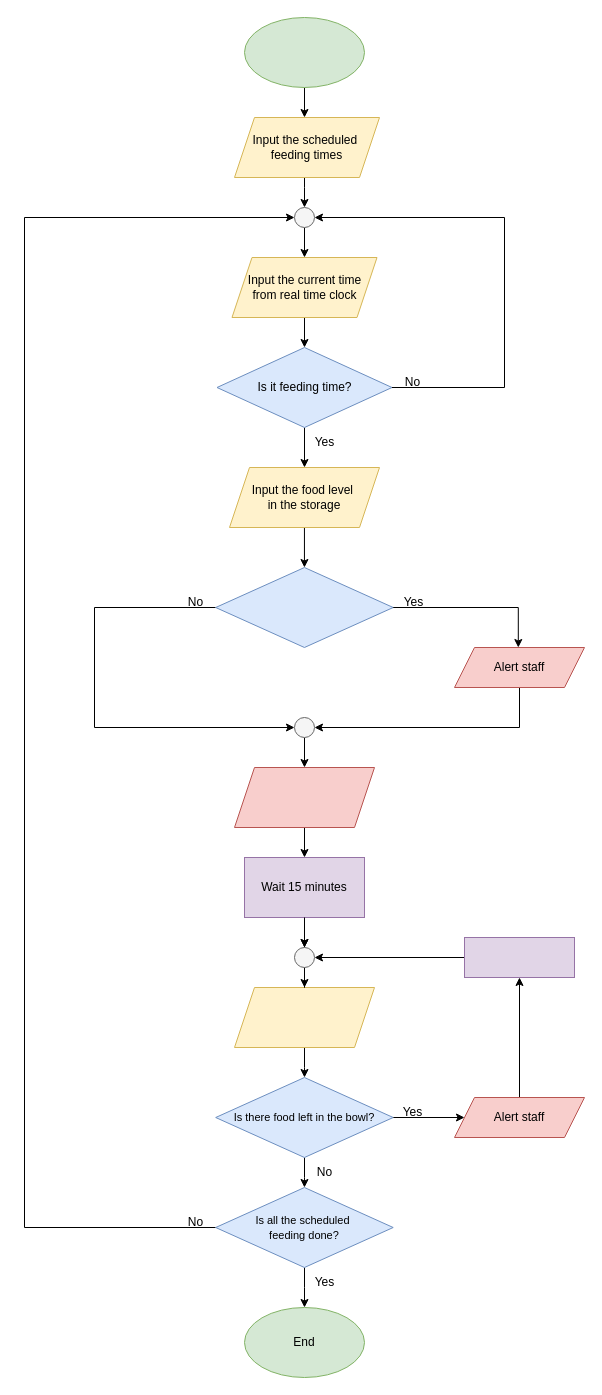
This 602x1395 diagram has some shape labels left out. The shapes that lost their labels are listed below. From the top down, each one's centre as x and y in pixels, then its label:
the point at 304,52: Start
the point at 304,607: Is the food level <= 1 serving in t he storage?
the point at 304,797: Dispense food
the point at 519,957: Wait 1 minute
the point at 304,1017: Input the weight of the bowl
